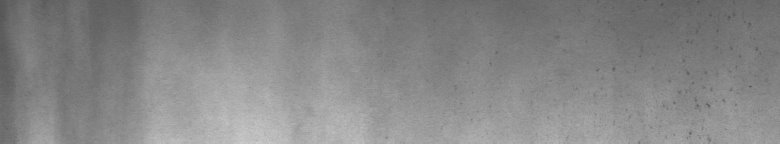ib: (662, 13, 735, 135)
